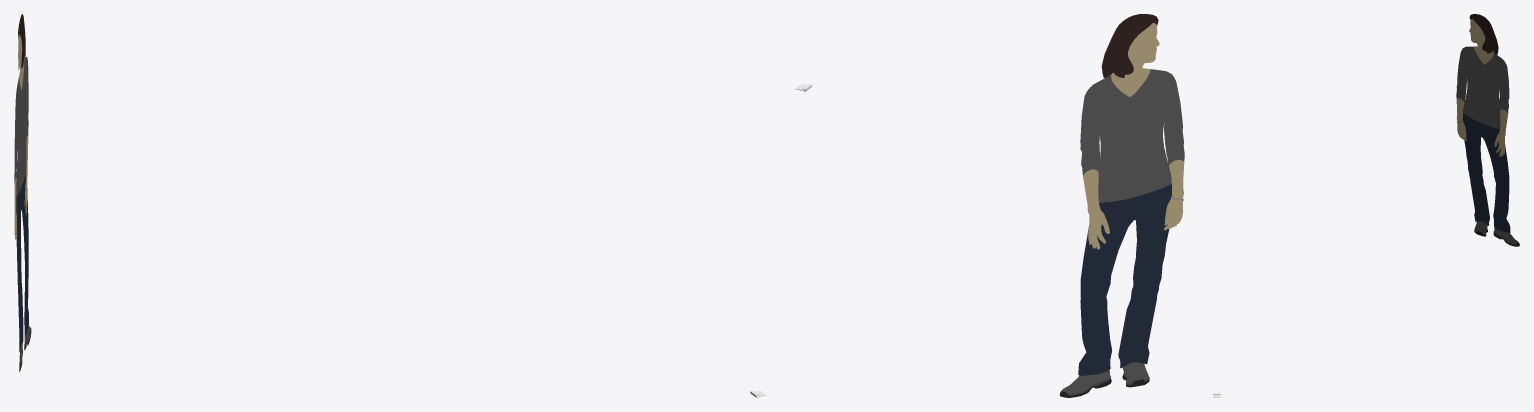
Rendered from tvstandpsacer.dae.
3 views of the same model, side by side, from view 1: azimuth 30°, elevation 25°; view 2: azimuth 150°, elevation 25°; view 3: azimuth 270°, elevation 25° (orthographic). The views are drawn at different scales.
Visible parts, largest first — view 1: Susan (×2); view 2: Susan (×9); view 3: Susan (×5).
Part boxes in pixels (x1=…): Susan (×2): x1=14, y1=57, x2=28, y2=352; Susan (×9): x1=1061, y1=14, x2=1184, y2=393; Susan (×5): x1=1456, y1=14, x2=1510, y2=232.
Size of the model in its own units: 110 by 83.92 by 66.6.
